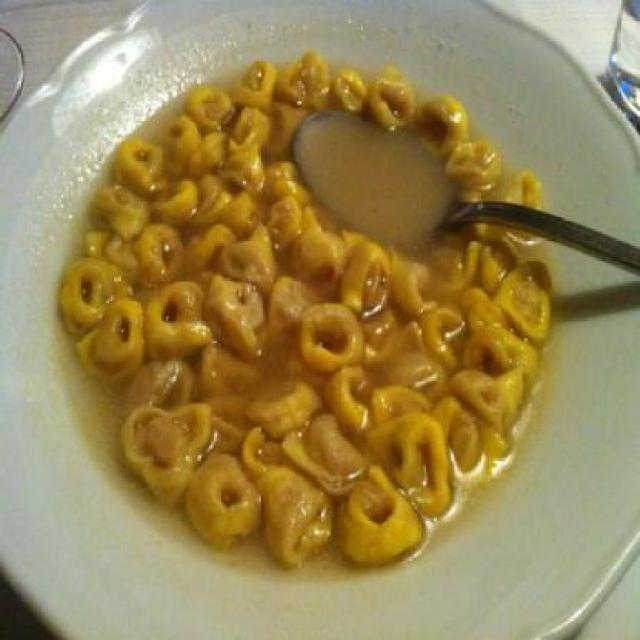Tortellini in broth: (110, 230, 492, 516)
